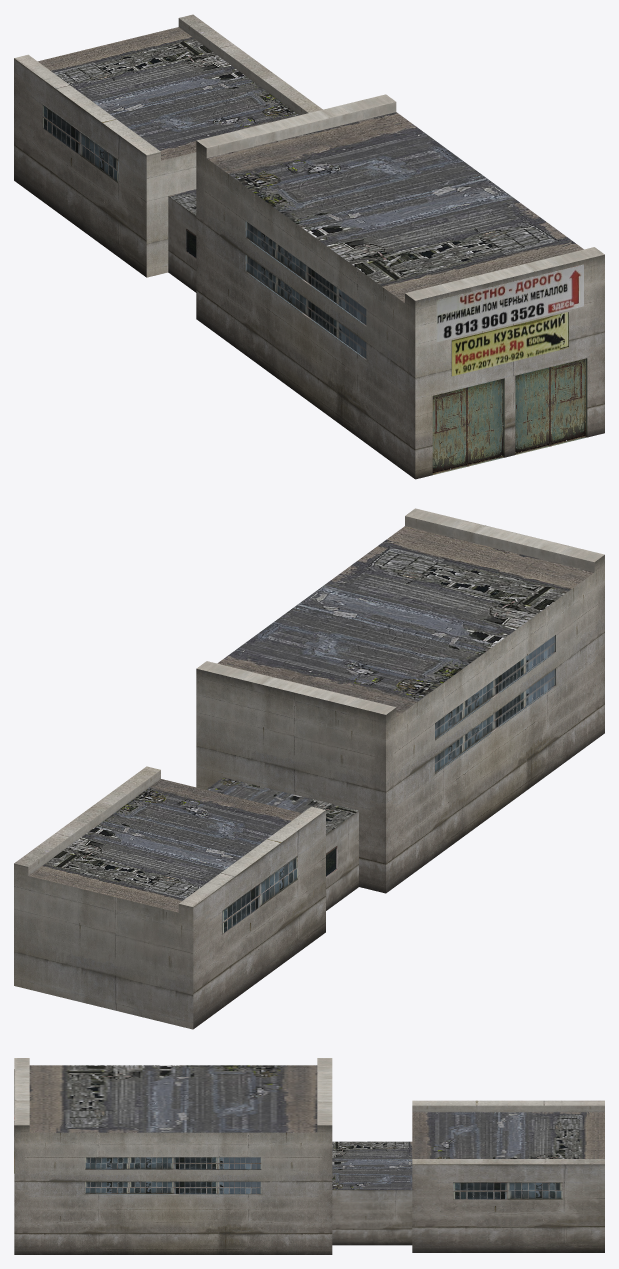
File: r402_kr_yar_derelict.FBX
3 views of the same model, one above another, from view 1: azimuth 30°, elevation 25°; view 2: azimuth 150°, elevation 25°; view 3: azimuth 270°, elevation 25° (orthographic). The views are drawn at different scales.
Parts seen in each view (by area): view 1: r402_kr_yar_derelict; view 2: r402_kr_yar_derelict; view 3: r402_kr_yar_derelict.
Boxes of the visible parts, box(x1,y1,x2,y2) form: r402_kr_yar_derelict: box(14, 14, 604, 479); r402_kr_yar_derelict: box(14, 508, 604, 1029); r402_kr_yar_derelict: box(14, 1058, 604, 1254).
Bounding box in the file's own units: 1000 × 3715 × 900.
